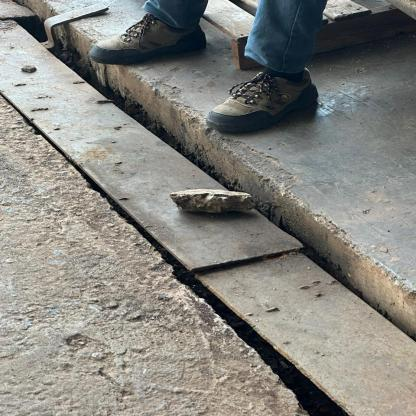bota: (78, 6, 222, 74), (194, 67, 323, 138)
